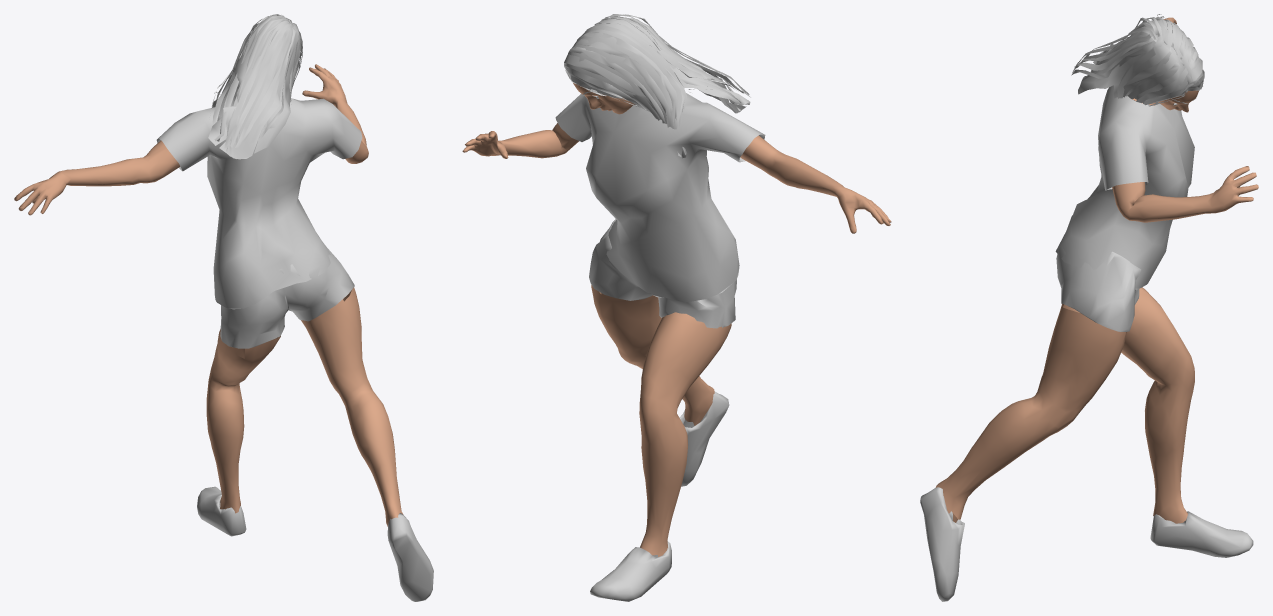
File: player2att_000021.obj
3 renders of one model, left to right at view 1: azimuth 30°, elevation 25°; view 2: azimuth 150°, elevation 25°; view 3: azimuth 270°, elevation 25°, orthographic. The views are drawn at different scales.
Visible parts, largest first — view 1: player2:tshirt02, player2:Body, player2:fhair01, player2:short01, player2:shoes02; view 2: player2:tshirt02, player2:Body, player2:fhair01, player2:shoes02, player2:short01; view 3: player2:Body, player2:tshirt02, player2:fhair01, player2:shoes02, player2:short01.
Boxes of the visible parts, x1,y1,x2,y2 form: player2:tshirt02: (156,98,362,309); player2:Body: (14,64,403,526); player2:fhair01: (208,14,302,159); player2:short01: (220,243,354,348); player2:shoes02: (197,486,433,601); player2:tshirt02: (555,93,765,302); player2:Body: (462,83,891,556); player2:fhair01: (564,14,750,158); player2:shoes02: (590,391,729,601); player2:short01: (589,219,736,328); player2:Body: (935,17,1258,523); player2:tshirt02: (1055,85,1194,290); player2:fhair01: (1071,14,1204,106); player2:shoes02: (920,487,1253,601); player2:short01: (1056,246,1141,331).
Size of the model in its own units: 11.68 by 16.34 by 8.97.
